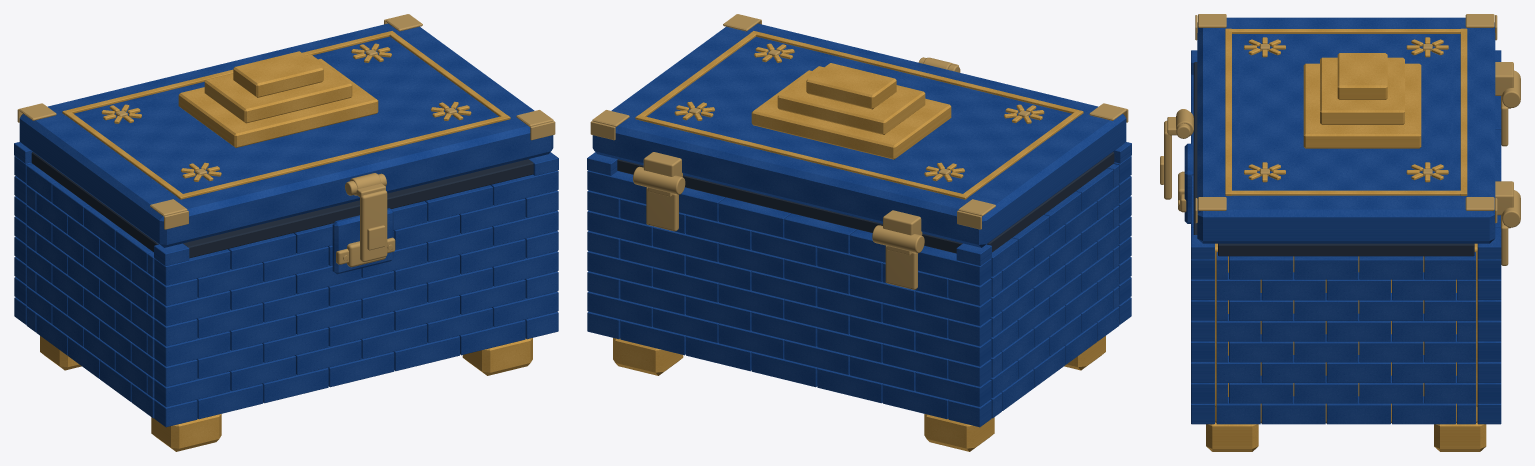
Rendered from iraq.glb.
The picture shows the model from 3 angles, left to right: view 1: azimuth 30°, elevation 25°; view 2: azimuth 150°, elevation 25°; view 3: azimuth 270°, elevation 25°; orthographic projection. The views are drawn at different scales.
Parts seen in each view (by area): view 1: Lid / polished slab, Seam / long, Babylon tier / 0, Babylon tier / 1, Babylon tier / 2, Lid border / long, Foot / clay, Glazed brick / long.092, Foot / clay.002, Glazed brick / long.040, Glazed brick / long.066, Glazed brick / long.014 (+83 smaller); view 2: Lid / polished slab, Babylon tier / 0, Babylon tier / 1, Seam / long.001, Babylon tier / 2, Lid border / long.001, Lid border / long, Glazed brick / long.101, Glazed brick / long.100, Foot / clay.001, Glazed brick / long.098, Foot / clay.003 (+89 smaller); view 3: Lid / polished slab, Babylon tier / 0, Babylon tier / 1, Seam / side.001, Babylon tier / 2, Glazed brick / side.076, Glazed brick / side.077, Glazed brick / side.078, Foot / clay.002, Foot / clay.003, Glazed brick / side.006, Glazed brick / side.007 (+66 smaller).
Boxes of the visible parts, x1=… form: Lid / polished slab: x1=19, y1=23, x2=553, y2=247; Seam / long: x1=183, y1=159, x2=533, y2=258; Babylon tier / 0: x1=178, y1=58, x2=378, y2=147; Babylon tier / 1: x1=204, y1=54, x2=352, y2=123; Babylon tier / 2: x1=233, y1=51, x2=323, y2=97; Lid border / long: x1=177, y1=115, x2=510, y2=199; Foot / clay: x1=151, y1=414, x2=221, y2=451; Glazed brick / long.092: x1=154, y1=249, x2=230, y2=285; Foot / clay.002: x1=462, y1=338, x2=532, y2=375; Glazed brick / long.040: x1=154, y1=331, x2=230, y2=366; Glazed brick / long.066: x1=154, y1=290, x2=230, y2=325; Glazed brick / long.014: x1=154, y1=371, x2=230, y2=406; Lid / polished slab: x1=592, y1=23, x2=1126, y2=247; Babylon tier / 0: x1=751, y1=70, x2=951, y2=159; Babylon tier / 1: x1=777, y1=66, x2=925, y2=134; Seam / long.001: x1=617, y1=159, x2=962, y2=253; Babylon tier / 2: x1=806, y1=63, x2=896, y2=109; Lid border / long.001: x1=635, y1=115, x2=968, y2=199; Lid border / long: x1=751, y1=31, x2=1083, y2=115; Glazed brick / long.101: x1=718, y1=197, x2=791, y2=237; Glazed brick / long.100: x1=784, y1=213, x2=857, y2=253; Foot / clay.001: x1=924, y1=414, x2=994, y2=451; Glazed brick / long.098: x1=918, y1=245, x2=991, y2=285; Foot / clay.003: x1=613, y1=338, x2=683, y2=375; Lid / polished slab: x1=1197, y1=17, x2=1495, y2=243; Babylon tier / 0: x1=1303, y1=63, x2=1421, y2=148; Babylon tier / 1: x1=1320, y1=57, x2=1404, y2=124; Seam / side.001: x1=1218, y1=243, x2=1474, y2=256; Babylon tier / 2: x1=1337, y1=53, x2=1387, y2=99; Glazed brick / side.076: x1=1229, y1=256, x2=1293, y2=279; Glazed brick / side.077: x1=1294, y1=256, x2=1358, y2=279; Glazed brick / side.078: x1=1359, y1=256, x2=1423, y2=279; Foot / clay.002: x1=1206, y1=422, x2=1258, y2=451; Foot / clay.003: x1=1434, y1=422, x2=1486, y2=451; Glazed brick / side.006: x1=1261, y1=396, x2=1325, y2=424; Glazed brick / side.007: x1=1326, y1=396, x2=1390, y2=424.
Size of the model in its own units: 3.72 by 2.6 by 2.88.
Materials: 4 (2 with a texture image).
